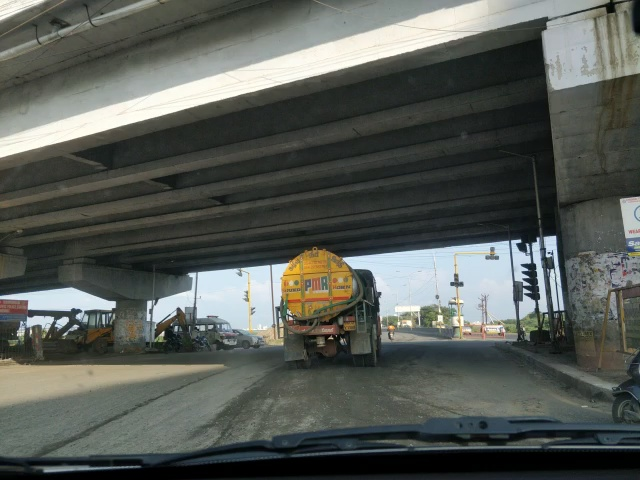bus: (186, 313, 239, 352)
car: (229, 323, 267, 353)
motorbike: (605, 317, 637, 430), (384, 316, 403, 351)
truck: (261, 247, 405, 377)
